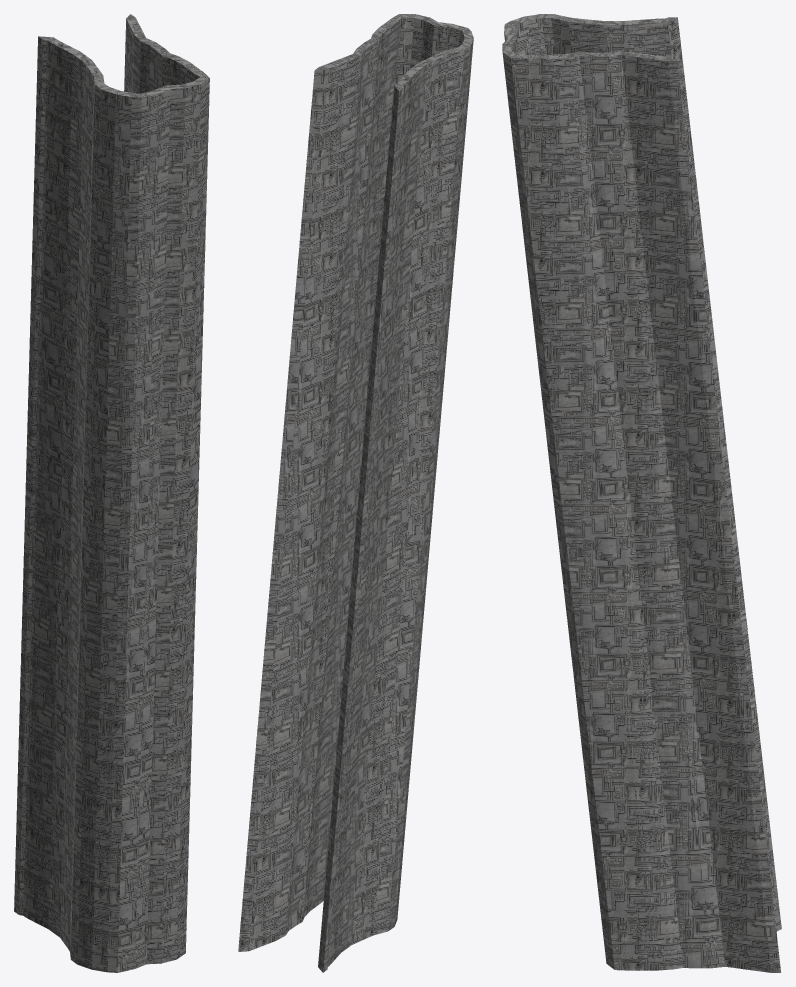
File: Area6_Border.fbx
3 renders of one model, left to right at view 1: azimuth 30°, elevation 25°; view 2: azimuth 150°, elevation 25°; view 3: azimuth 270°, elevation 25°, orthographic. The views are drawn at different scales.
Parts seen in each view (by area): view 1: Area6_Border; view 2: Area6_Border; view 3: Area6_Border.
Part boxes in pixels (x1=…): Area6_Border: x1=14, y1=14, x2=209, y2=972; Area6_Border: x1=238, y1=14, x2=473, y2=972; Area6_Border: x1=502, y1=14, x2=781, y2=972.
Size of the model in its own units: 756 by 5181 by 1462.
1 material, 1 textured.
